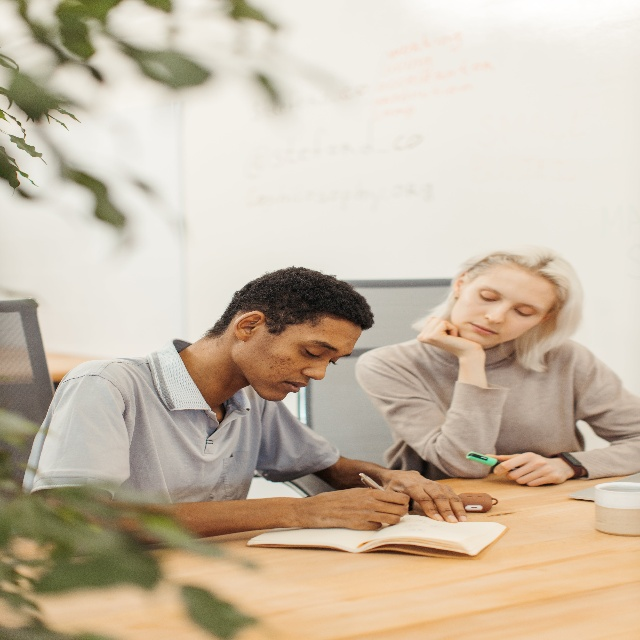Sin_guantes: (383, 470, 467, 524), (315, 487, 410, 531), (416, 317, 486, 362), (485, 452, 569, 487)
